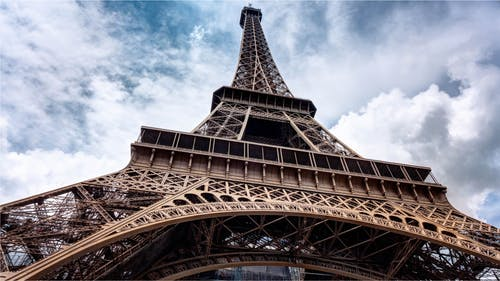eiffel tower: (3, 1, 500, 276)
